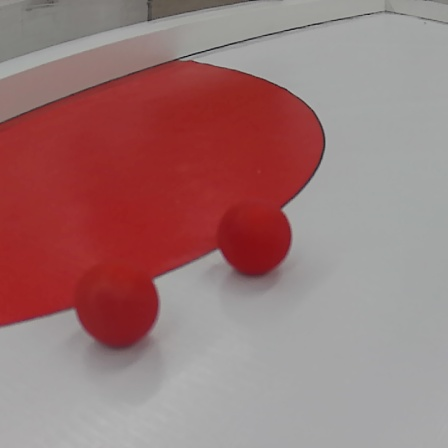red: (75, 260, 158, 350), (216, 202, 293, 276)
red_base: (2, 58, 332, 327)
